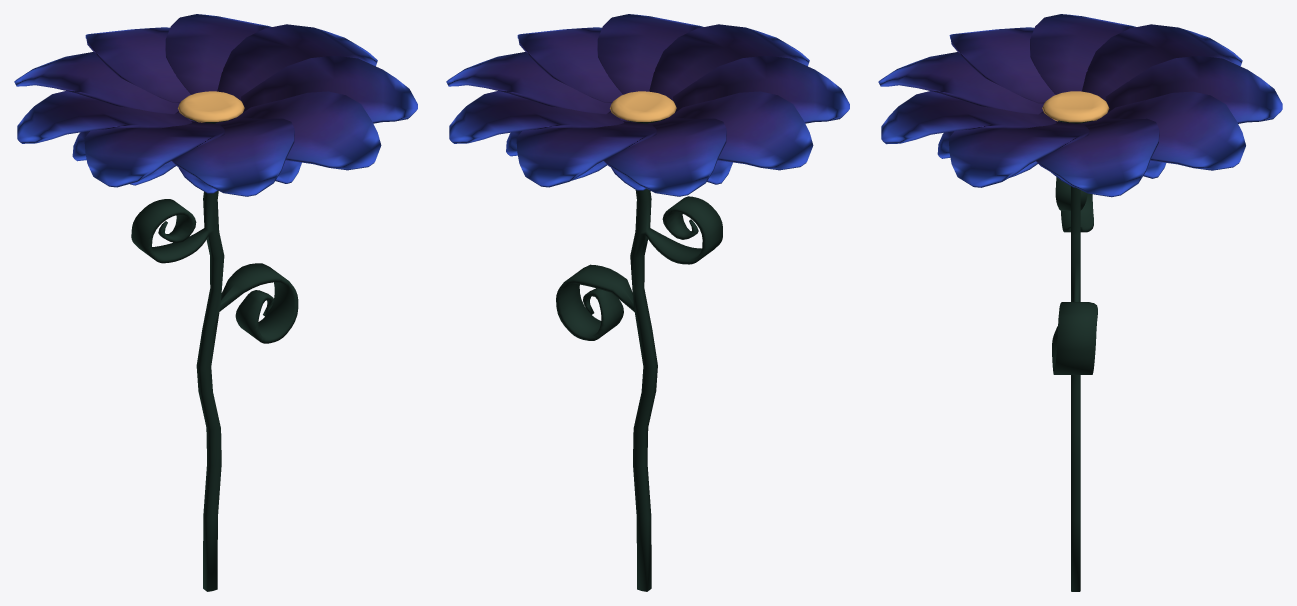
The model's file is yökukka.fbx.
3 renders of one model, left to right at view 1: azimuth 30°, elevation 25°; view 2: azimuth 150°, elevation 25°; view 3: azimuth 270°, elevation 25°, orthographic.
Parts seen in each view (by area): view 1: terälehti1.003, varsi.003, terälehti2.003; view 2: terälehti1.003, varsi.003, terälehti2.003; view 3: terälehti1.003, varsi.003, terälehti2.003.
Part boxes in pixels (x1,y1,x2,y2): terälehti1.003: [14, 14, 417, 196]; varsi.003: [131, 91, 298, 591]; terälehti2.003: [72, 117, 301, 193]; terälehti1.003: [446, 14, 849, 196]; varsi.003: [556, 91, 722, 591]; terälehti2.003: [506, 117, 732, 190]; terälehti1.003: [878, 14, 1282, 197]; varsi.003: [1042, 91, 1109, 591]; terälehti2.003: [937, 119, 1166, 187].
Size of the model in its own units: 475 by 650 by 469.
